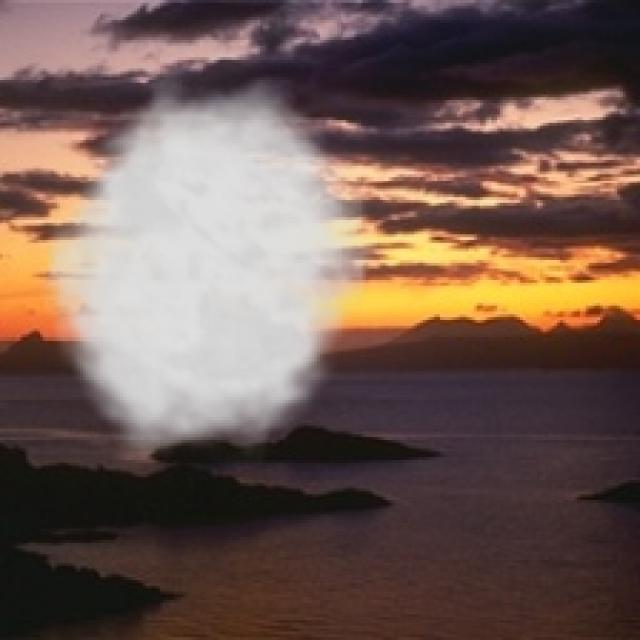smoke: (34, 74, 386, 469)
